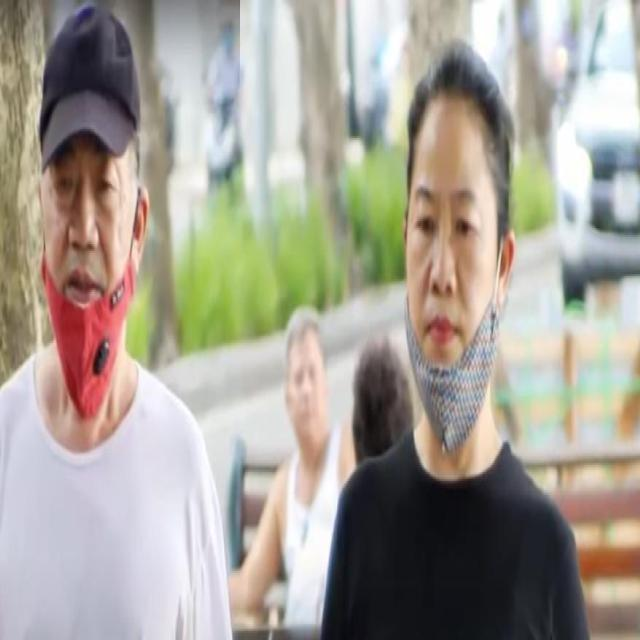hairnet: (403, 182, 499, 453), (40, 172, 135, 418)
